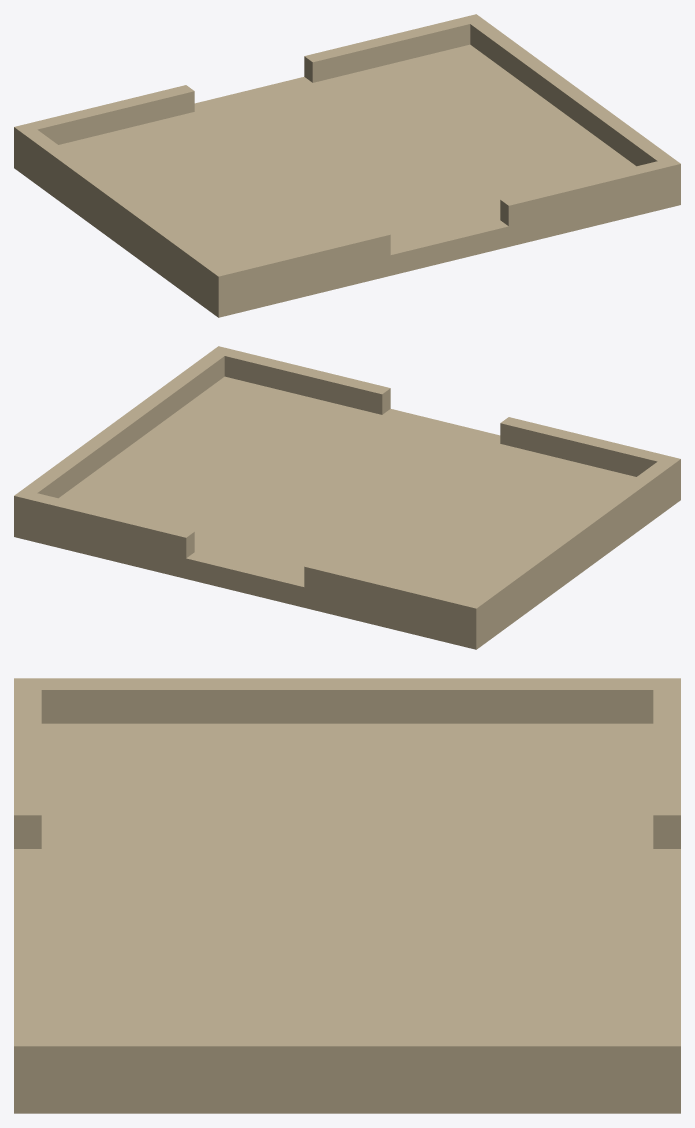
The model's file is tray_whole.glb.
3 views of the same model, one above another, from view 1: azimuth 30°, elevation 25°; view 2: azimuth 150°, elevation 25°; view 3: azimuth 270°, elevation 25° (orthographic). The views are drawn at different scales.
Parts seen in each view (by area): view 1: tray_whole_0; view 2: tray_whole_0; view 3: tray_whole_0.
Part boxes in pixels (x1,y1,x2,y2): tray_whole_0: (14,14,680,317); tray_whole_0: (14,346,680,649); tray_whole_0: (14,678,680,1113).
Bounding box in the file's own units: 0.94 × 0.08 × 0.72.
